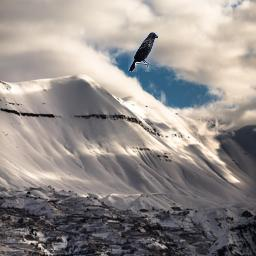Crow: (128, 32, 158, 72)
